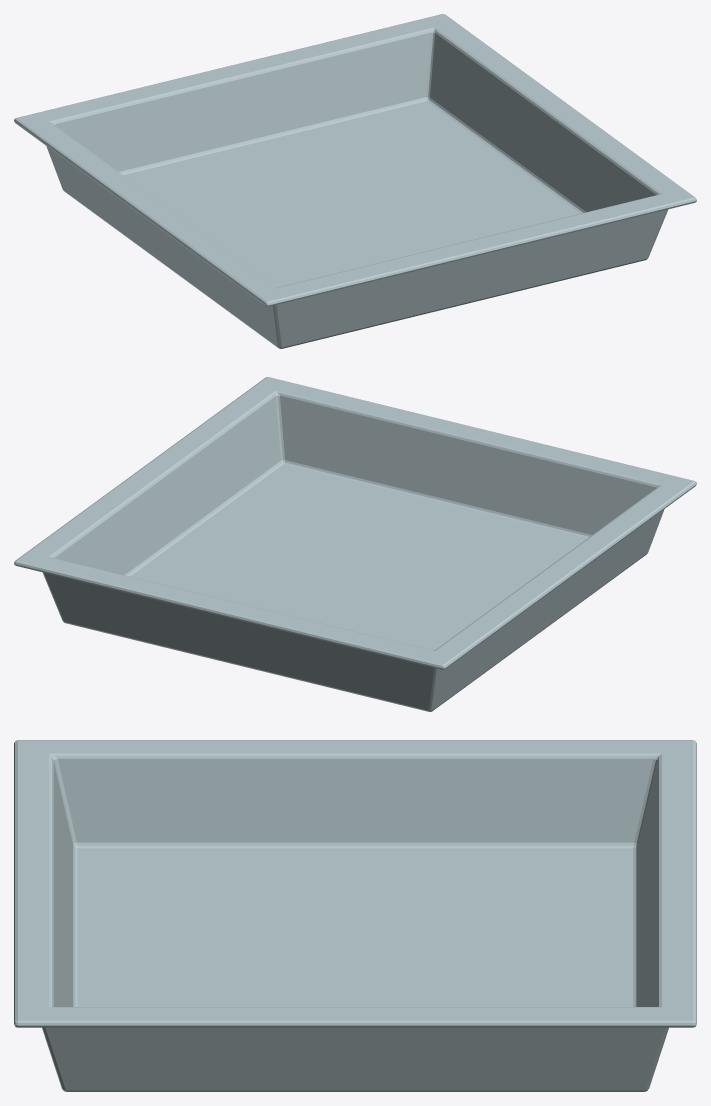
The model's file is FoodTray.glb.
The picture shows the model from 3 angles, top to bottom: view 1: azimuth 30°, elevation 25°; view 2: azimuth 150°, elevation 25°; view 3: azimuth 270°, elevation 25°; orthographic projection. The views are drawn at different scales.
Parts seen in each view (by area): view 1: FoodTray_Square.001; view 2: FoodTray_Square.001; view 3: FoodTray_Square.001.
Part boxes in pixels (<box>): FoodTray_Square.001: <box>14,14,696,348</box>; FoodTray_Square.001: <box>14,377,696,711</box>; FoodTray_Square.001: <box>14,740,696,1091</box>.
Bounding box in the file's own units: 1.37 × 0.2066 × 1.4.
